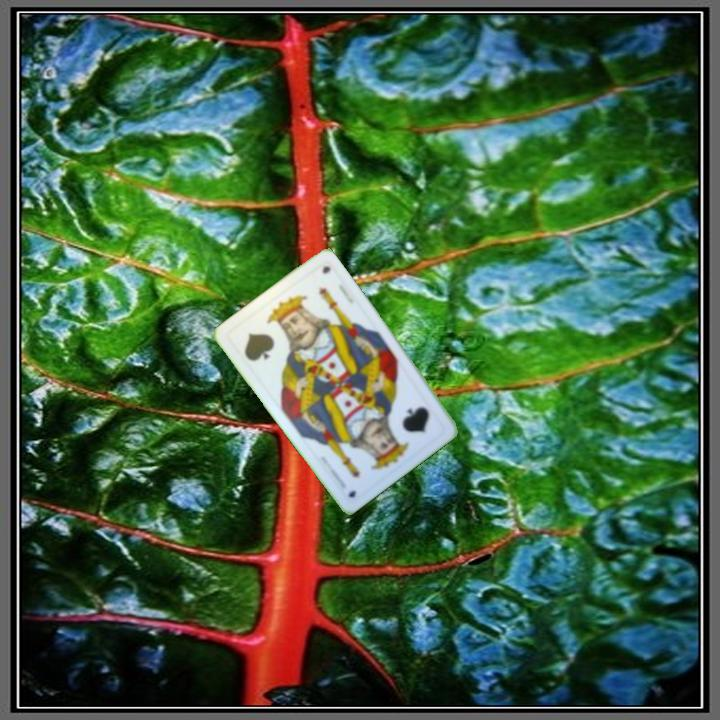s_k.png: (224, 295, 310, 380), (364, 382, 450, 466)
